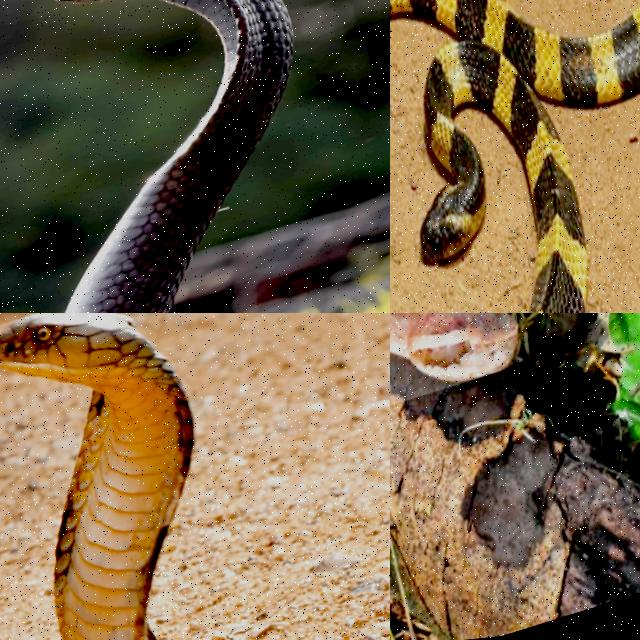Bungarus fasciatus: (390, 0, 639, 312)
Calloselasma rhodostoma: (390, 313, 519, 381)
Ophiophagus hannah: (67, 0, 292, 312), (0, 313, 194, 639)
snake: (390, 0, 639, 312), (67, 0, 292, 312), (0, 313, 194, 639), (390, 313, 519, 381)
